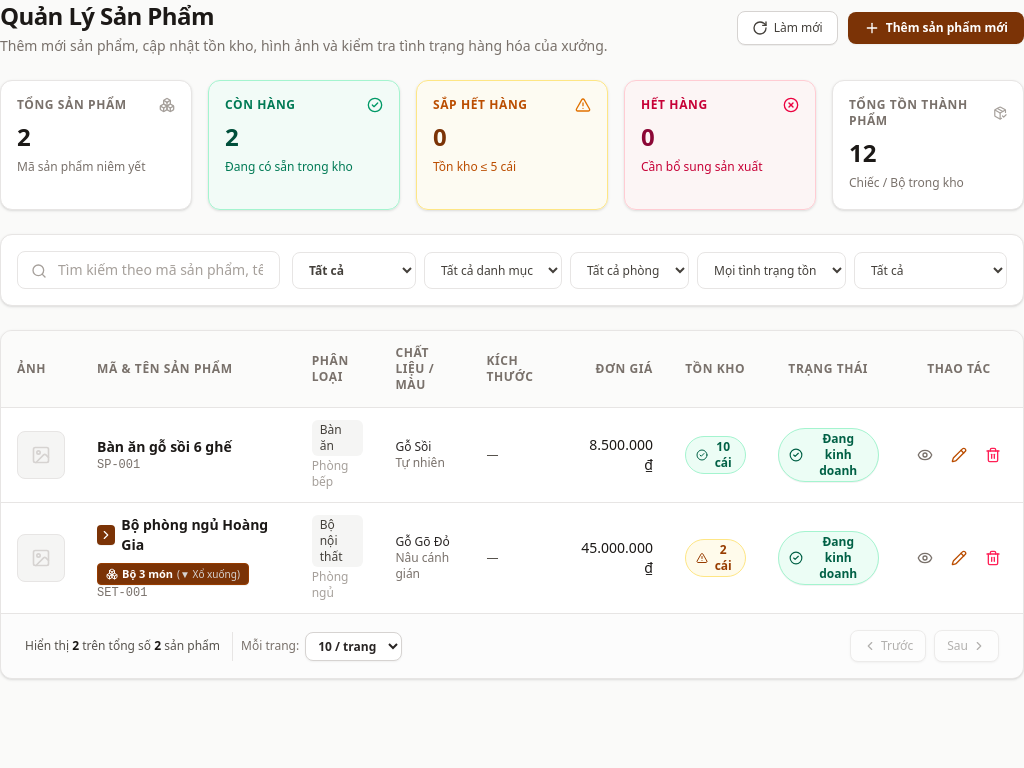
Test: ManageProductsPage Component › opens Delete Product modal when clicking Trash2 icon button
The width and height of the screenshot is (1024, 768).
Click the button with test id "delete-product-1". click: (993, 455)
box: [979,441,1007,469]
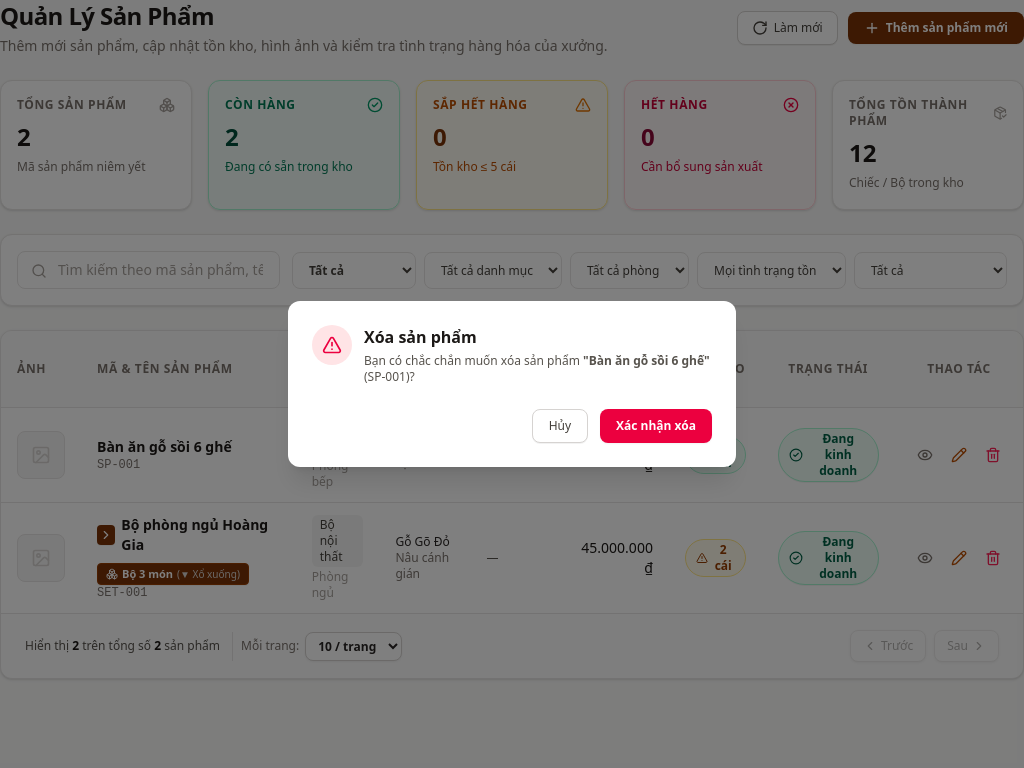
Expected: the heading "Xóa sản phẩm" is shown, [364,326,477,348]
Expected: the text "Bạn có chắc chắn muốn xóa sản phẩm" is shown, [364,352,583,369]
